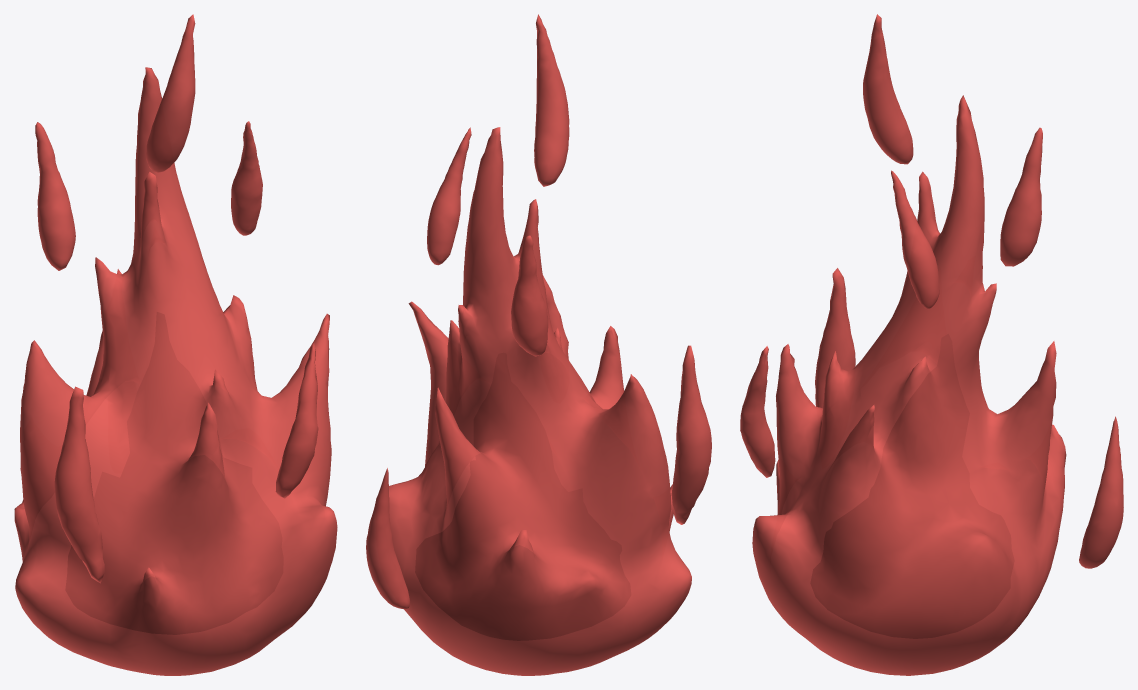
Rendered from redfire.fbx.
3 renders of one model, left to right at view 1: azimuth 30°, elevation 25°; view 2: azimuth 150°, elevation 25°; view 3: azimuth 270°, elevation 25°, orthographic. The views are drawn at different scales.
Visible parts, largest first — view 1: fire big_8, Sphere.004_6, Sphere.003_5, Sphere.001_3, Sphere_2, Sphere.002_4; view 2: fire big_8, Sphere.004_6, Sphere.003_5, Sphere.005_7, Sphere.001_3, Sphere.002_4, Sphere_2; view 3: fire big_8, Sphere.003_5, Sphere.001_3, Sphere.005_7, Sphere.002_4, Sphere.004_6, Sphere_2.
Boxes of the visible parts, <box> form: fire big_8: <box>14,67,337,675</box>; Sphere.004_6: <box>54,386,104,583</box>; Sphere.003_5: <box>146,14,195,172</box>; Sphere.001_3: <box>35,122,75,270</box>; Sphere_2: <box>275,343,318,498</box>; Sphere.002_4: <box>231,121,262,235</box>; fire big_8: <box>389,127,691,675</box>; Sphere.004_6: <box>671,345,711,524</box>; Sphere.003_5: <box>534,14,569,186</box>; Sphere.005_7: <box>366,468,409,609</box>; Sphere.001_3: <box>511,235,548,356</box>; Sphere.002_4: <box>427,127,471,265</box>; Sphere_2: <box>542,275,568,359</box>; fire big_8: <box>752,95,1066,675</box>; Sphere.003_5: <box>863,14,913,164</box>; Sphere.001_3: <box>1000,127,1042,266</box>; Sphere.005_7: <box>1079,416,1123,568</box>; Sphere.002_4: <box>891,170,939,309</box>; Sphere.004_6: <box>815,268,855,408</box>; Sphere_2: <box>740,346,775,477</box>.
Bounding box in the file's own units: 354 × 737 × 395.
